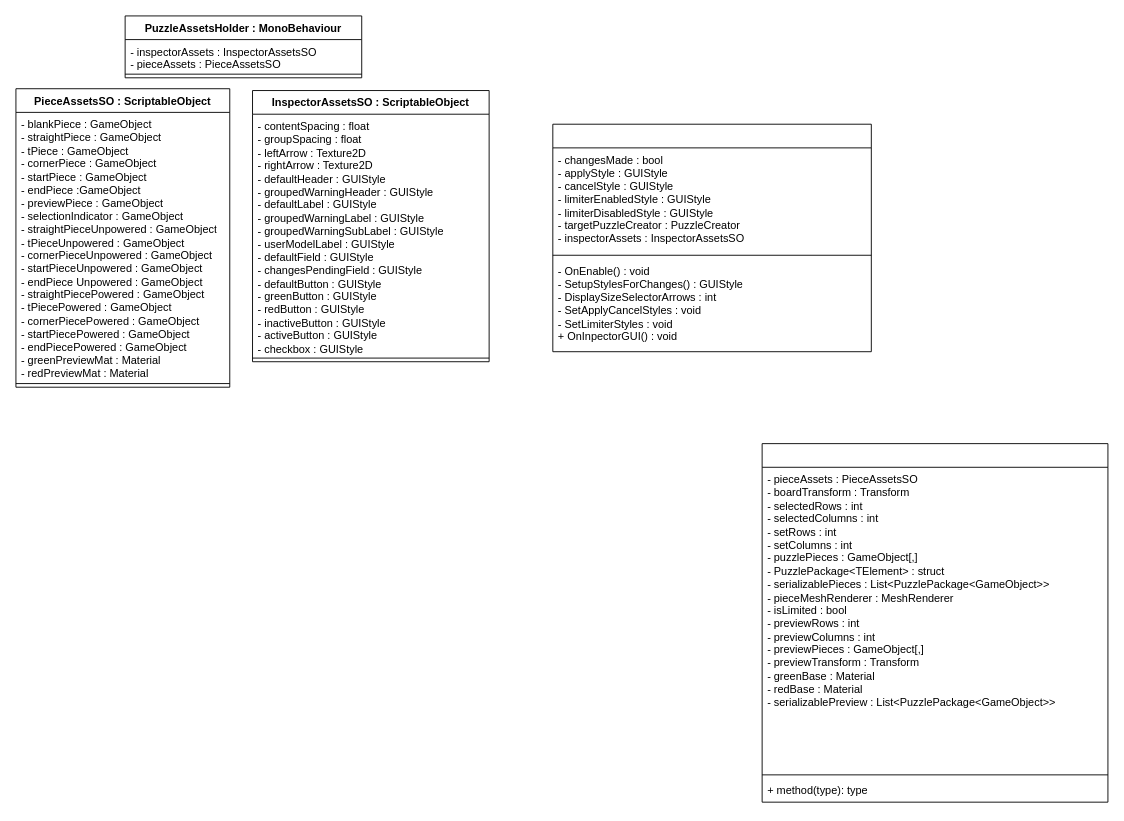
Some shapes in this 1124 by 821 pixel diagram are drawn without their labels. The shapes that lost their labels are listed below. From the top down, each one's box as (x1, y1, x2, y2) in pixels, then its label:
(552, 123, 871, 352): PuzzleCreatorInspector : Editor (typeof(PuzzleCreator))
(761, 443, 1108, 802): PuzzleCreator : MonoBehaviour [ExecuteInEditMode]
